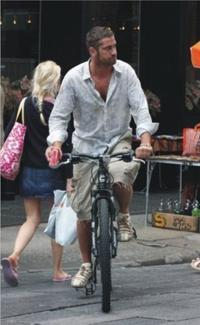person: (47, 26, 153, 287)
